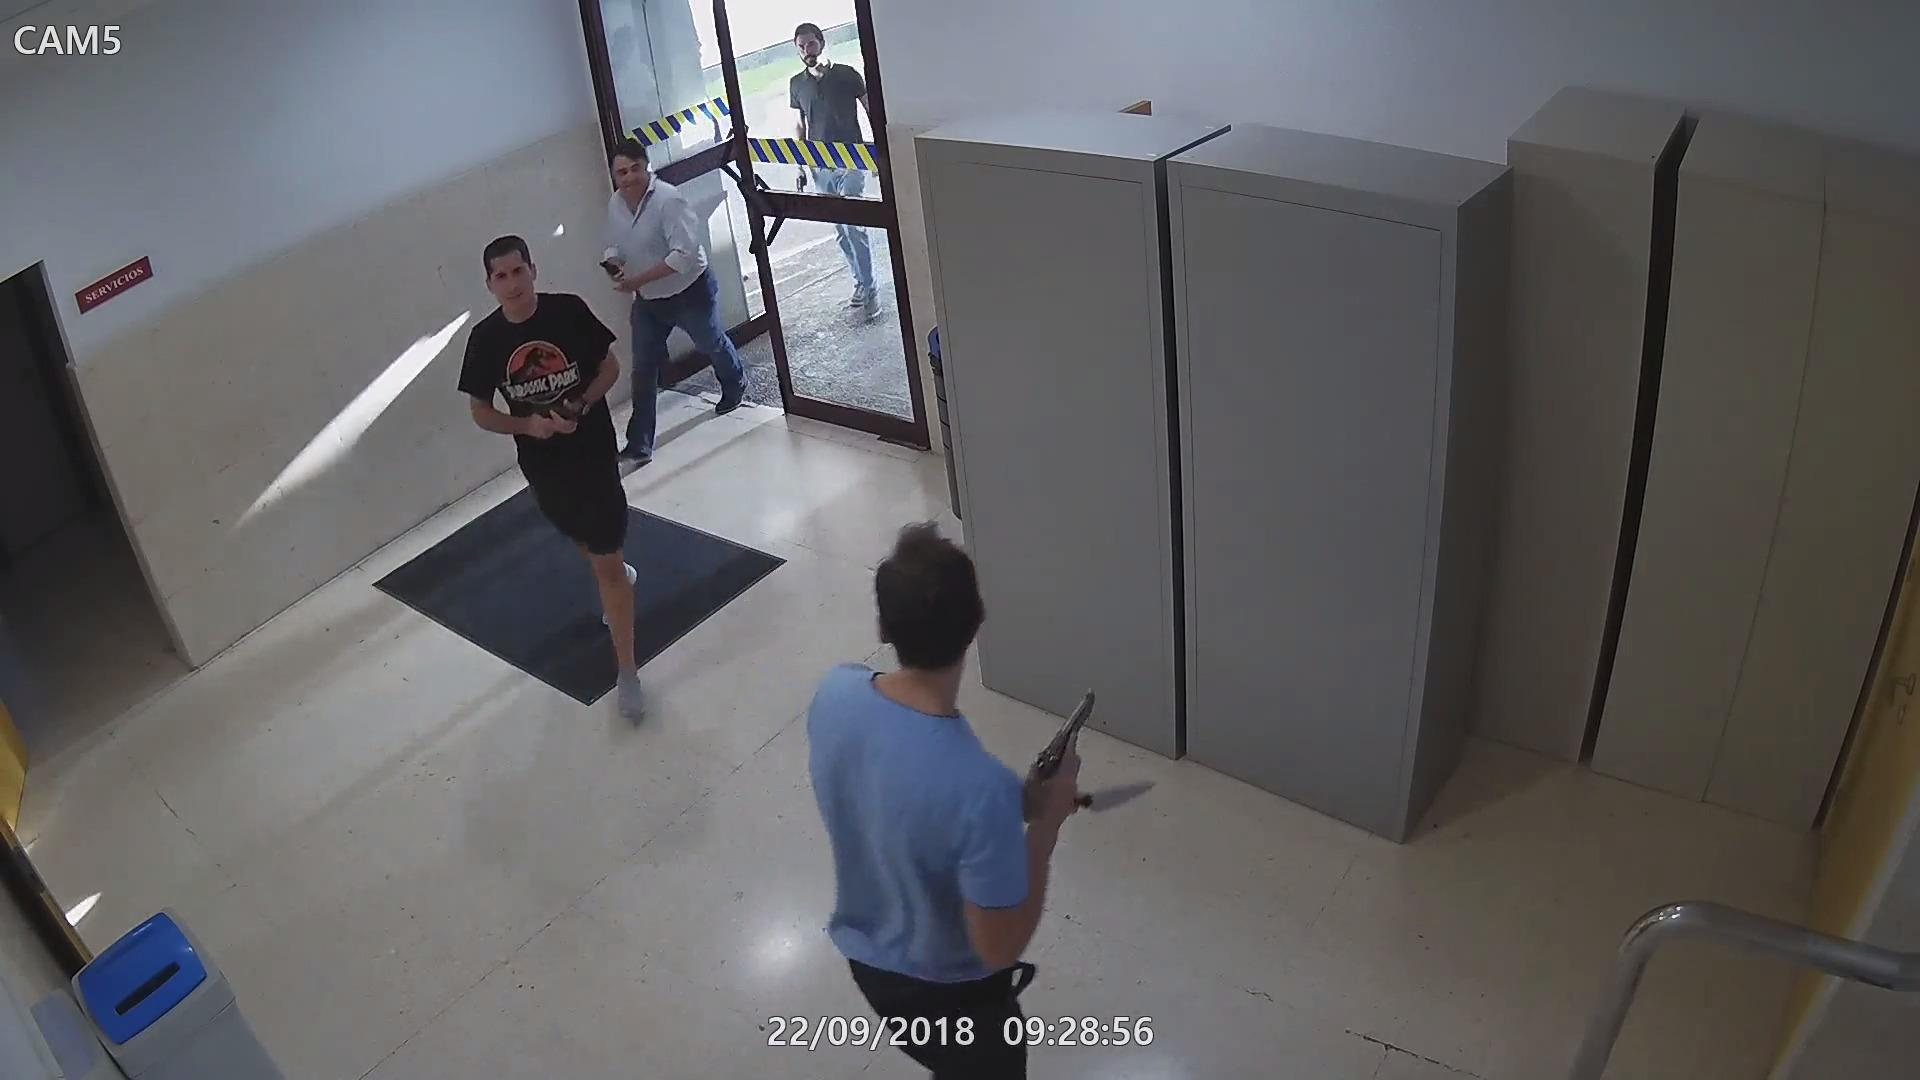Handgun: (1018, 682, 1098, 824), (518, 400, 588, 444), (596, 258, 634, 286), (790, 166, 807, 194)
